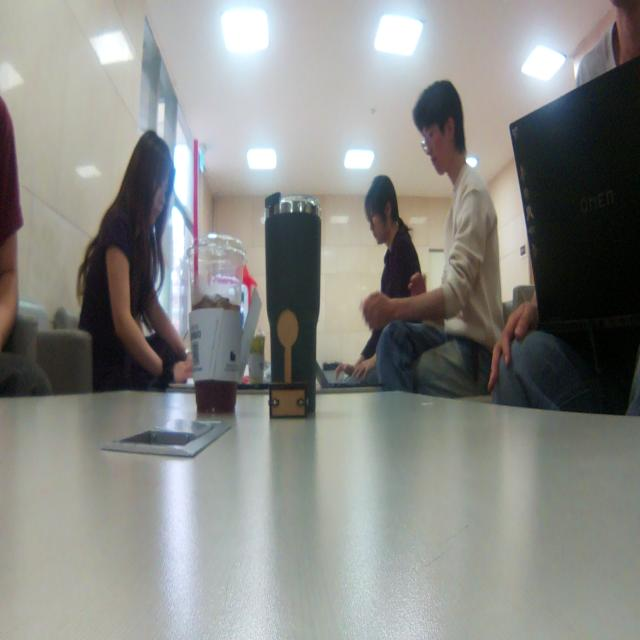target: (268, 308, 306, 420)
